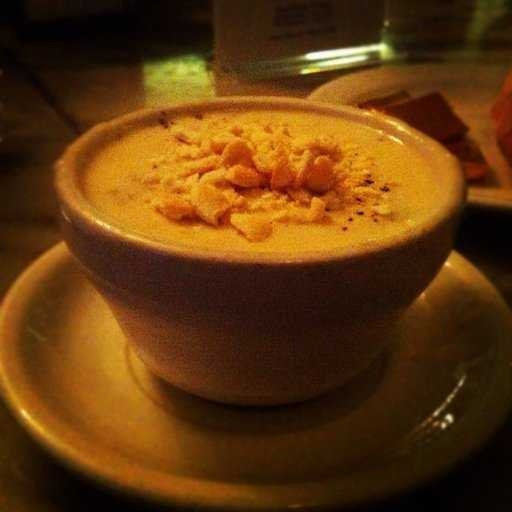soup: (44, 81, 477, 287)
